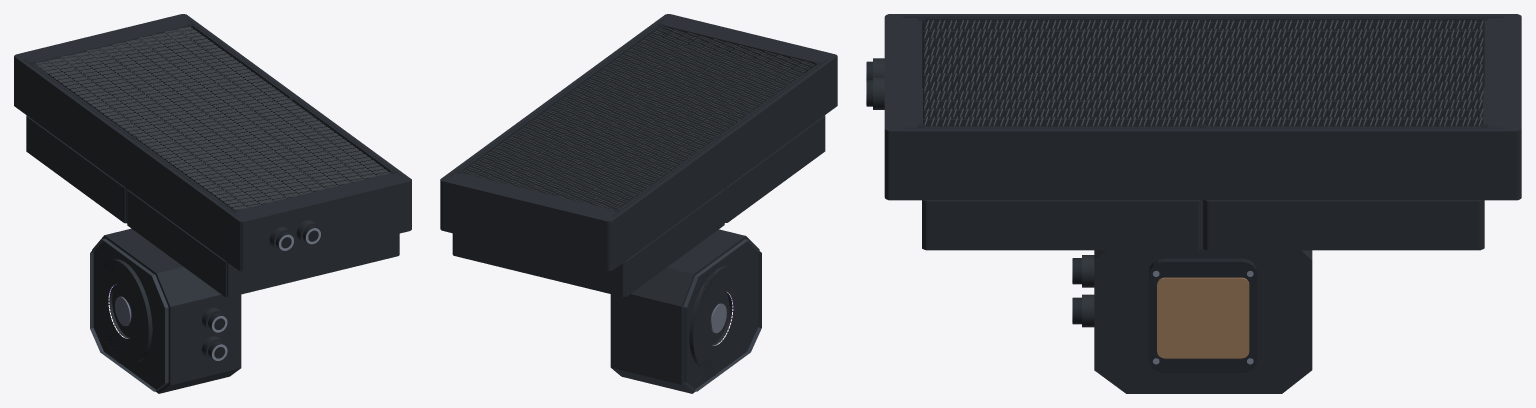
The model's file is arctic-liquid-freezer-iii-280-argb.glb.
3 renders of one model, left to right at view 1: azimuth 30°, elevation 25°; view 2: azimuth 150°, elevation 25°; view 3: azimuth 270°, elevation 25°, orthographic. The views are drawn at different scales.
Visible parts, largest first — view 1: radiator-body.aio-powder-coat, radiator-body.aio-folded-aluminium, pump-housing.aio-powder-coat, radiator-fan-frame-1.aio-powder-coat, radiator-fan-frame-0.aio-powder-coat, pump-housing.aio-graphite, radiator-body.aio-fibre-sleeve-and-rubber, pump-elbows.aio-fibre-sleeve-and-rubber, radiator-barbs.aio-powder-coat, radiator-barbs.aio-fibre-sleeve-and-rubber, pump-elbows.aio-powder-coat, pump-housing.aio-hub-label; view 2: radiator-body.aio-powder-coat, radiator-body.aio-folded-aluminium, pump-housing.aio-powder-coat, radiator-fan-frame-0.aio-powder-coat, radiator-fan-frame-1.aio-powder-coat, pump-housing.aio-graphite, radiator-body.aio-fibre-sleeve-and-rubber, pump-housing.aio-hub-label; view 3: radiator-body.aio-powder-coat, radiator-body.aio-folded-aluminium, pump-housing.aio-powder-coat, radiator-fan-frame-0.aio-powder-coat, radiator-fan-frame-1.aio-powder-coat, cold-plate.aio-milled-copper, cold-plate.aio-fibre-sleeve-and-rubber, radiator-body.aio-fibre-sleeve-and-rubber, pump-elbows.aio-powder-coat, radiator-barbs.aio-powder-coat.
Part boxes in pixels (left/top/right/bottom): radiator-body.aio-powder-coat: left=14, top=14, right=411, bottom=271; radiator-body.aio-folded-aluminium: left=35, top=26, right=389, bottom=209; pump-housing.aio-powder-coat: left=92, top=228, right=241, bottom=393; radiator-fan-frame-1.aio-powder-coat: left=127, top=189, right=399, bottom=297; radiator-fan-frame-0.aio-powder-coat: left=26, top=115, right=127, bottom=223; pump-housing.aio-graphite: left=90, top=238, right=168, bottom=391; radiator-body.aio-fibre-sleeve-and-rubber: left=23, top=19, right=402, bottom=216; pump-elbows.aio-fibre-sleeve-and-rubber: left=208, top=313, right=227, bottom=361; radiator-barbs.aio-powder-coat: left=269, top=220, right=321, bottom=251; radiator-barbs.aio-fibre-sleeve-and-rubber: left=275, top=225, right=321, bottom=251; pump-elbows.aio-powder-coat: left=201, top=307, right=225, bottom=360; pump-housing.aio-hub-label: left=115, top=296, right=131, bottom=326; radiator-body.aio-powder-coat: left=440, top=14, right=837, bottom=271; radiator-body.aio-folded-aluminium: left=462, top=26, right=814, bottom=209; pump-housing.aio-powder-coat: left=610, top=229, right=759, bottom=393; radiator-fan-frame-0.aio-powder-coat: left=452, top=189, right=724, bottom=296; radiator-fan-frame-1.aio-powder-coat: left=724, top=115, right=825, bottom=222; pump-housing.aio-graphite: left=683, top=239, right=761, bottom=391; radiator-body.aio-fibre-sleeve-and-rubber: left=449, top=19, right=828, bottom=216; pump-housing.aio-hub-label: left=710, top=303, right=726, bottom=333; radiator-body.aio-powder-coat: left=884, top=14, right=1521, bottom=200; radiator-body.aio-folded-aluminium: left=924, top=20, right=1483, bottom=126; pump-housing.aio-powder-coat: left=1094, top=248, right=1312, bottom=393; radiator-fan-frame-0.aio-powder-coat: left=1203, top=88, right=1484, bottom=250; radiator-fan-frame-1.aio-powder-coat: left=922, top=88, right=1203, bottom=250; cold-plate.aio-milled-copper: left=1157, top=277, right=1249, bottom=358; cold-plate.aio-fibre-sleeve-and-rubber: left=1149, top=258, right=1257, bottom=372; radiator-body.aio-fibre-sleeve-and-rubber: left=902, top=16, right=1503, bottom=128; pump-elbows.aio-powder-coat: left=1082, top=255, right=1094, bottom=327; radiator-barbs.aio-powder-coat: left=873, top=58, right=884, bottom=109.
Bounding box in the file's own units: 0.14 × 0.1806 × 0.3262.
